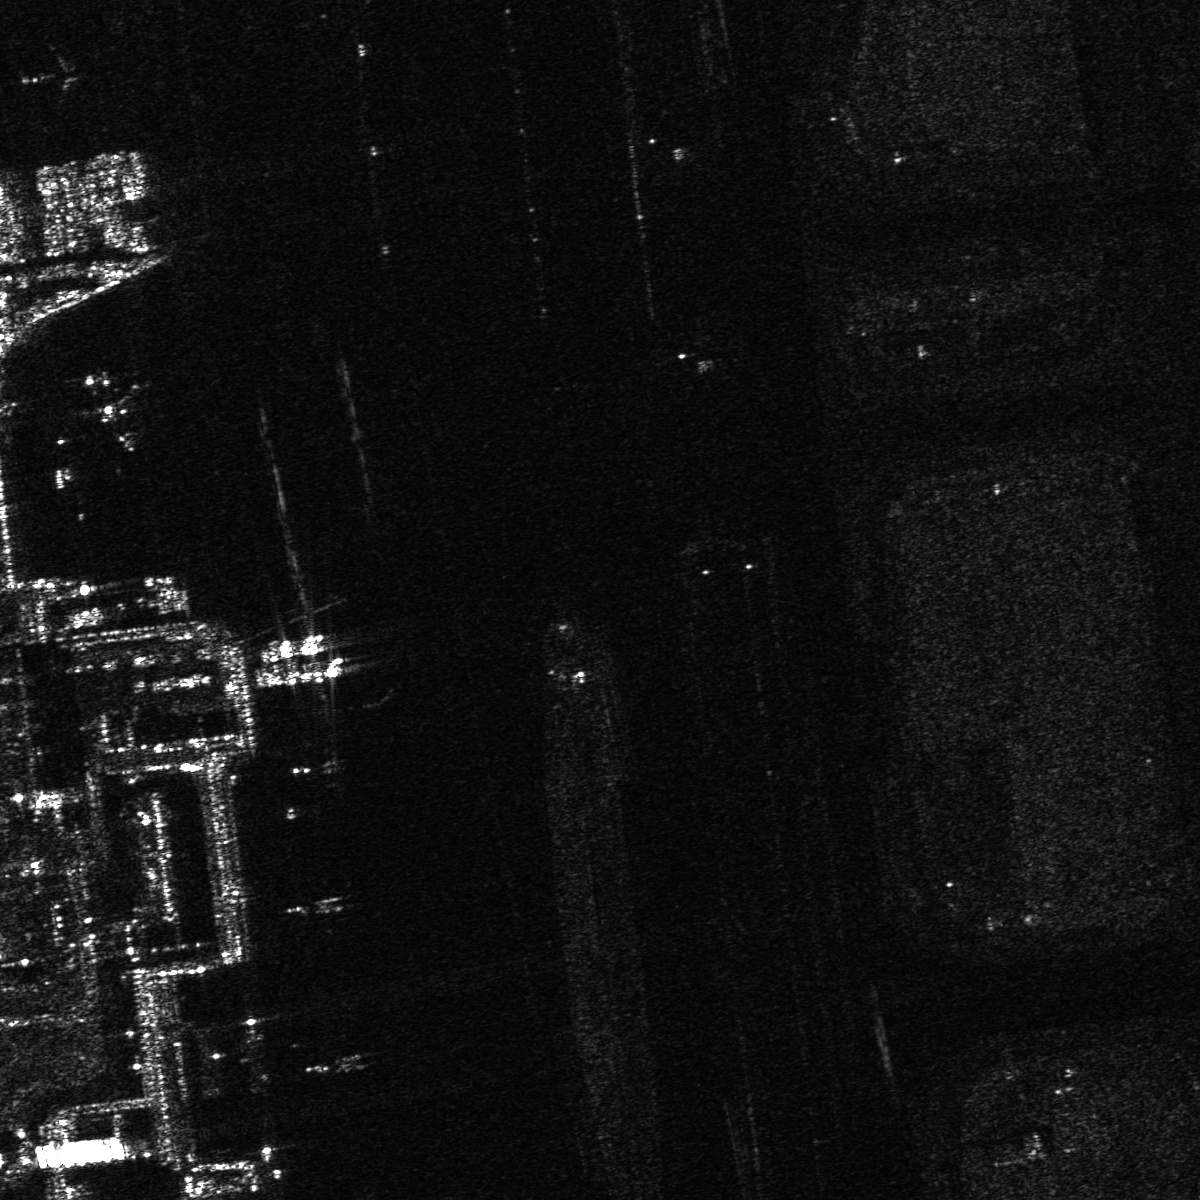Boeing787: (59, 365, 144, 457)
other: (16, 38, 93, 109)
